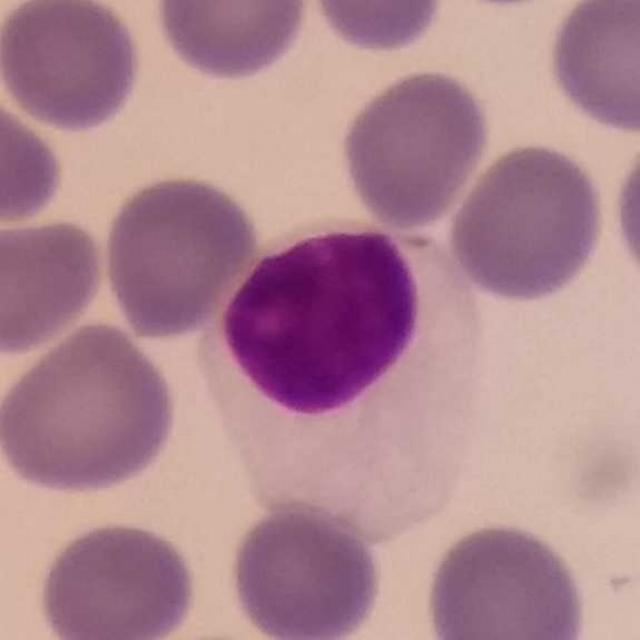Lymphocyte: (212, 217, 490, 545)
RBC: (1, 317, 183, 500), (98, 170, 263, 341), (443, 138, 609, 306), (335, 65, 494, 232), (224, 498, 386, 640), (421, 516, 592, 640), (34, 515, 200, 640), (0, 0, 147, 136), (0, 212, 108, 358), (149, 0, 314, 86), (543, 0, 640, 138), (0, 82, 70, 230), (305, 0, 447, 57), (609, 123, 640, 300)
